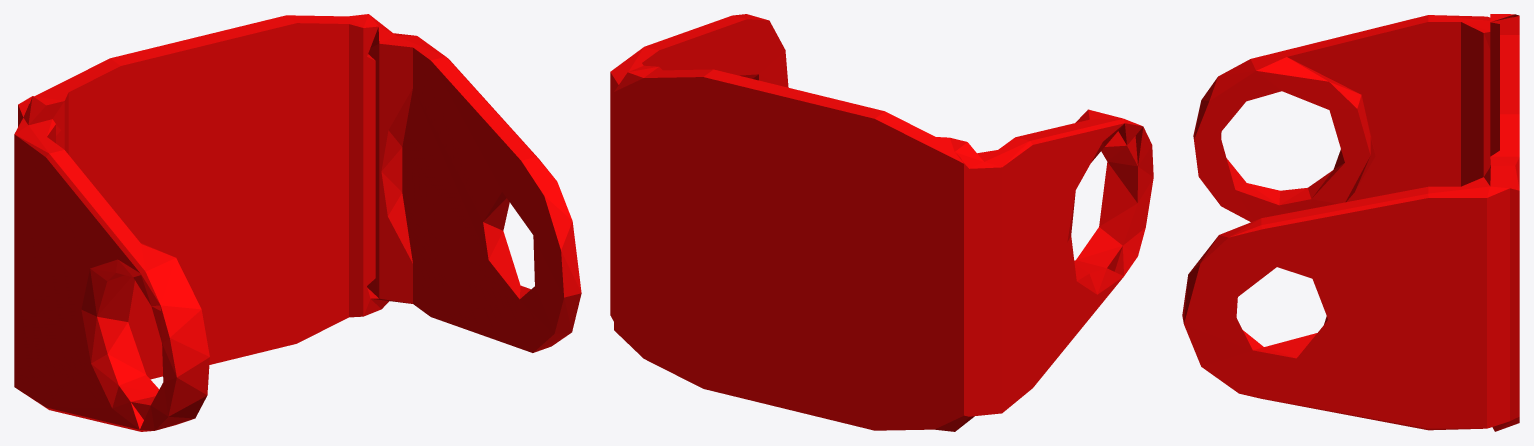
Rendered from warec-RR_ANKLE_R-visual-0.dae.
3 views of the same model, side by side, from view 1: azimuth 30°, elevation 25°; view 2: azimuth 150°, elevation 25°; view 3: azimuth 270°, elevation 25° (orthographic). The views are drawn at different scales.
Parts seen in each view (by area): view 1: root; view 2: root; view 3: root.
Part boxes in pixels (left/top/right/bottom): root: left=14, top=14, right=581, bottom=431; root: left=610, top=14, right=1153, bottom=431; root: left=1182, top=14, right=1519, bottom=431.
Bounding box in the file's own units: 0.1315 × 0.1 × 0.1034.
